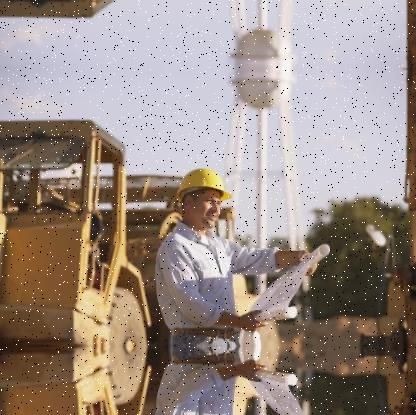helmet: (169, 156, 230, 234)
